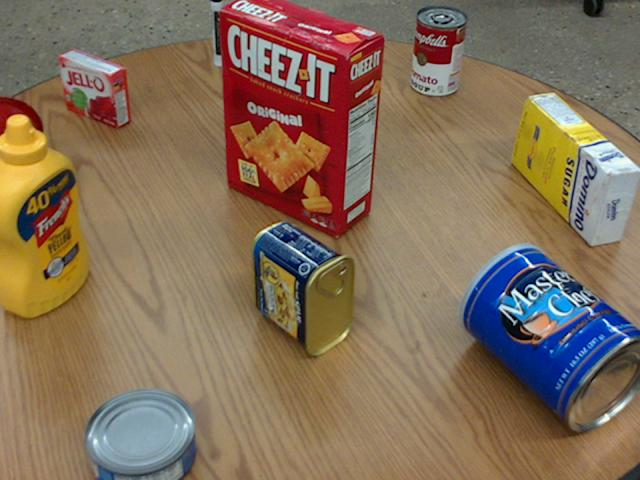cracker_box: (219, 0, 384, 233)
gelatin_box: (62, 49, 132, 127)
large_marker: (211, 0, 226, 65)
master_chef_can: (458, 242, 639, 430)
mug: (0, 96, 48, 199)
mustard_bottle: (0, 114, 90, 317)
potted_meat_can: (250, 221, 355, 356)
sugar_box: (511, 93, 639, 245)
tomato_soup_can: (411, 5, 467, 96)
tuna_fish_can: (84, 388, 195, 479)
